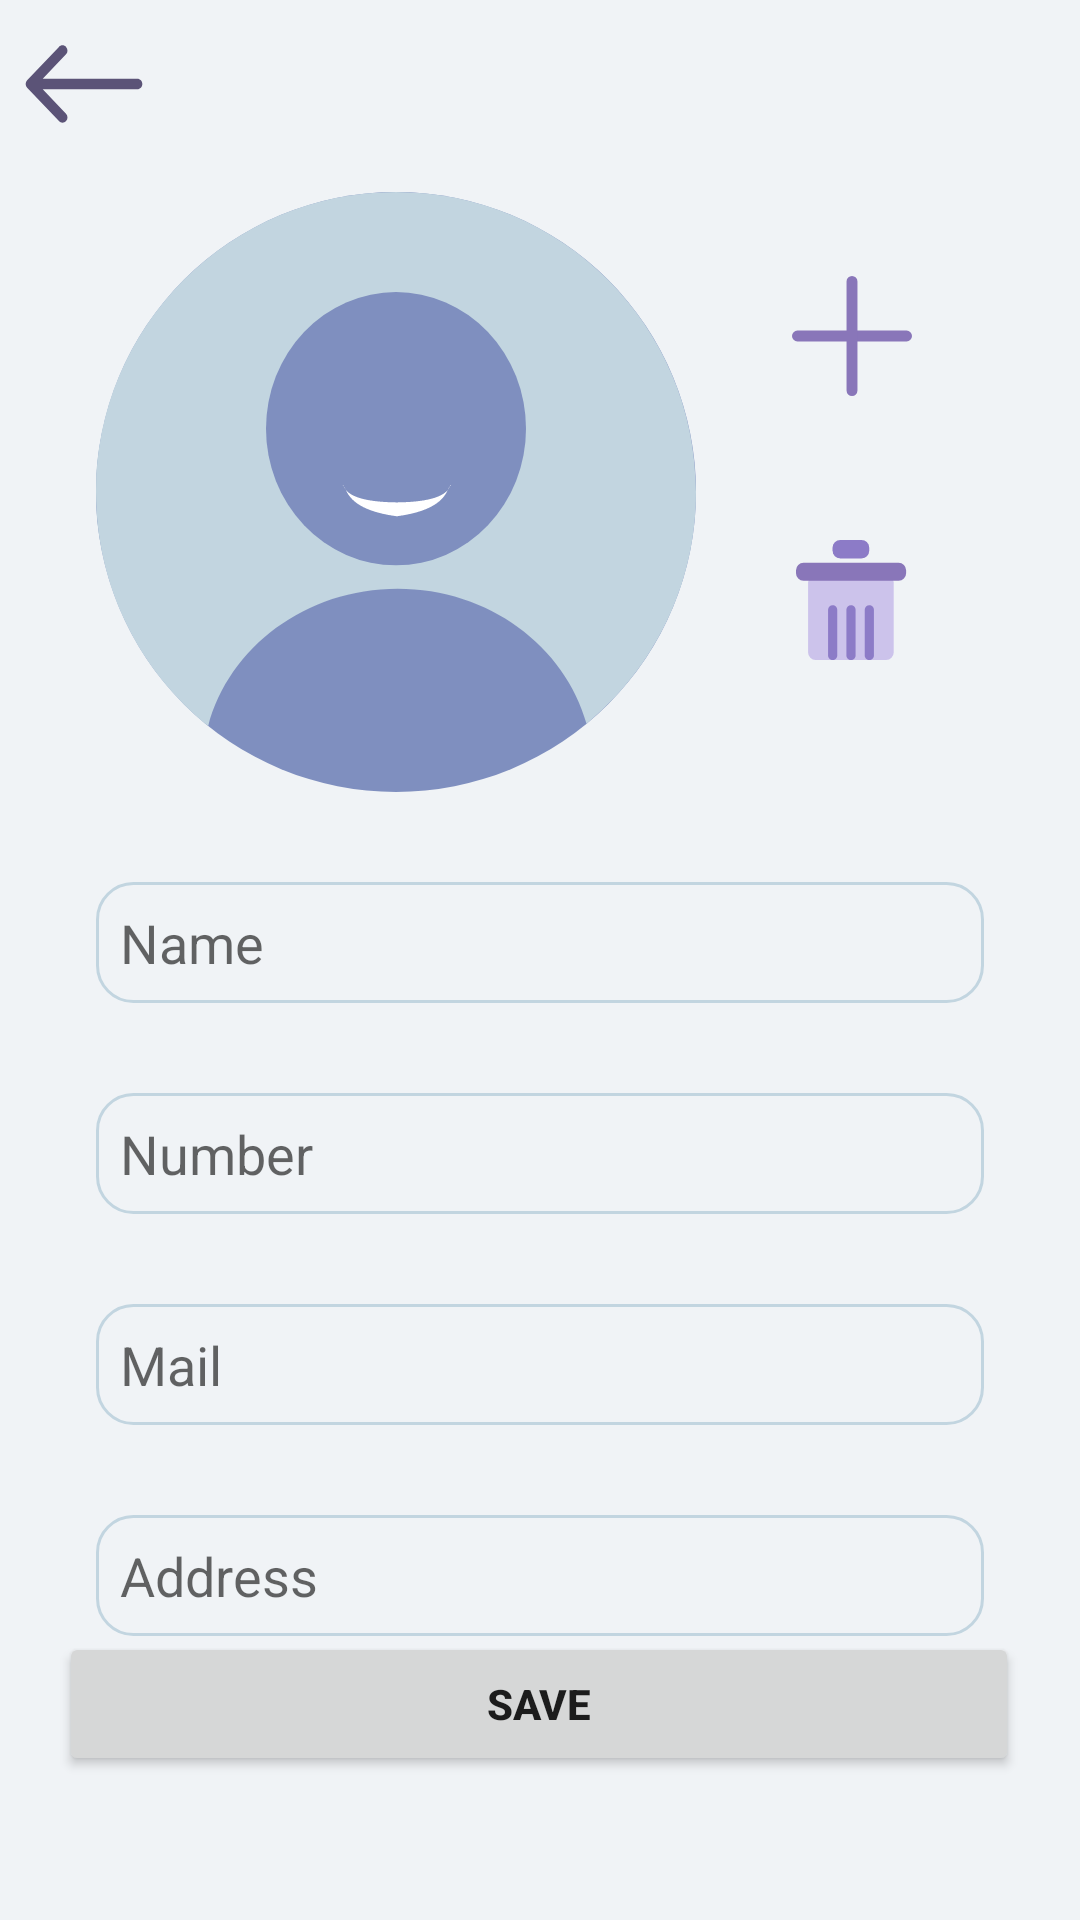

Icons on this 1080 × 1920 Android screen, each with its box as [x1,y1,x2,y2]:
plus: [792,276,912,396]
remove: [796,540,906,660]
